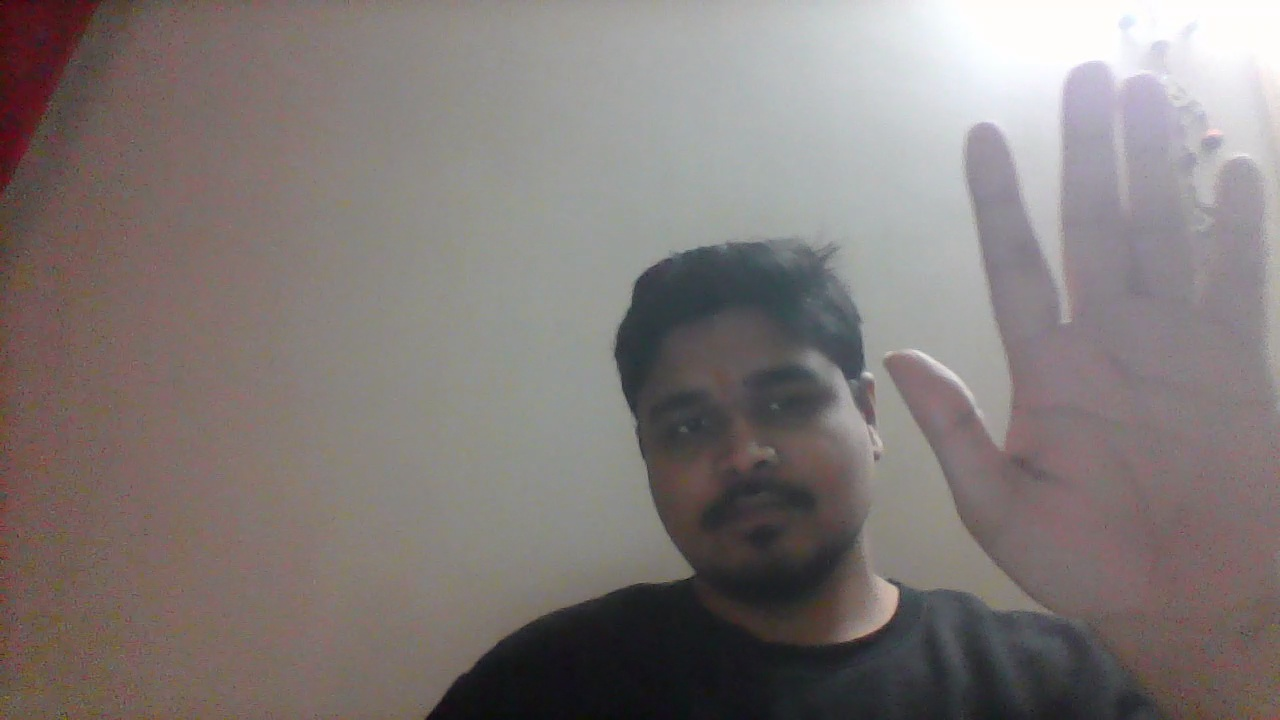Hello: (879, 61, 1280, 635)
